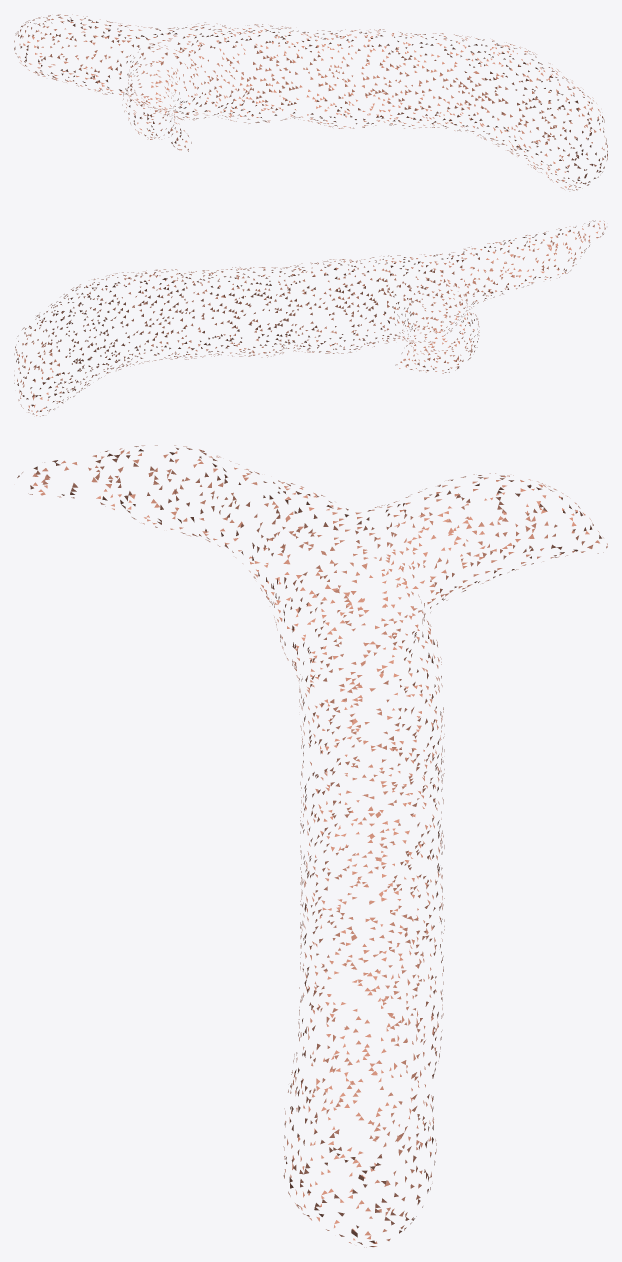
Rendered from morph_003.glb.
3 views of the same model, one above another, from view 1: azimuth 30°, elevation 25°; view 2: azimuth 150°, elevation 25°; view 3: azimuth 270°, elevation 25° (orthographic). The views are drawn at different scales.
Bounding box in the file's own units: 119 × 57.56 × 73.15.
